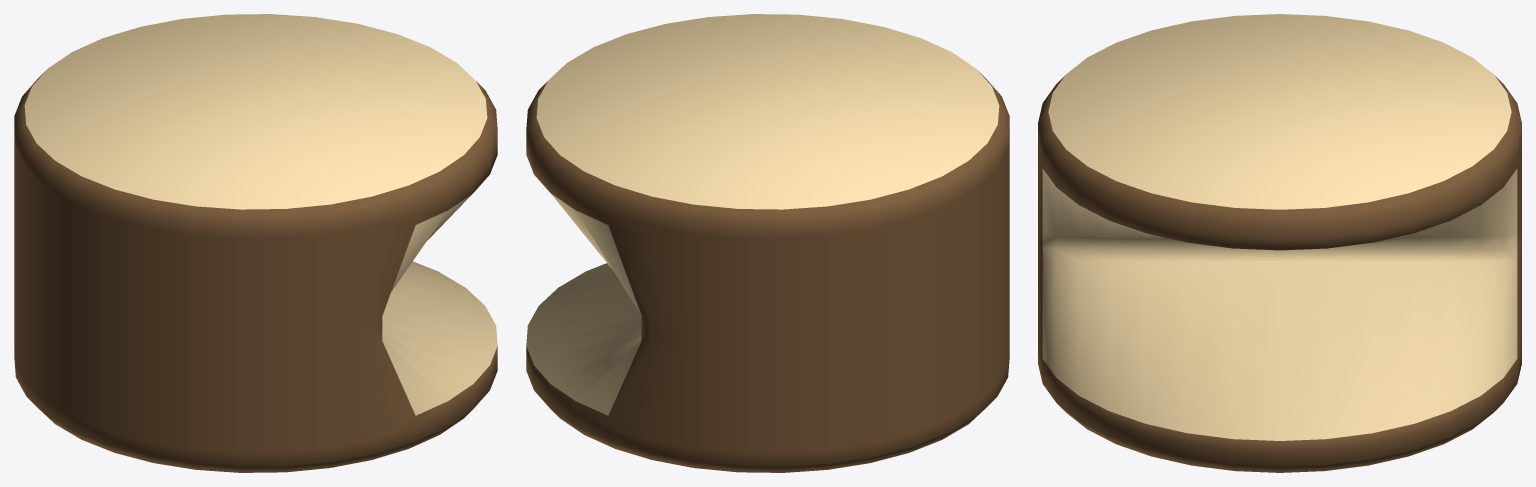
Rendered from sm_cut wood trunk.fbx.
3 renders of one model, left to right at view 1: azimuth 30°, elevation 25°; view 2: azimuth 150°, elevation 25°; view 3: azimuth 270°, elevation 25°, orthographic.
Parts seen in each view (by area): view 1: CutLog good.001; view 2: CutLog good.001; view 3: CutLog good.001.
Part boxes in pixels (<box>): CutLog good.001: <box>14,14,497,472</box>; CutLog good.001: <box>526,14,1009,472</box>; CutLog good.001: <box>1038,14,1521,472</box>.
Size of the model in its own units: 50 by 30 by 50.
